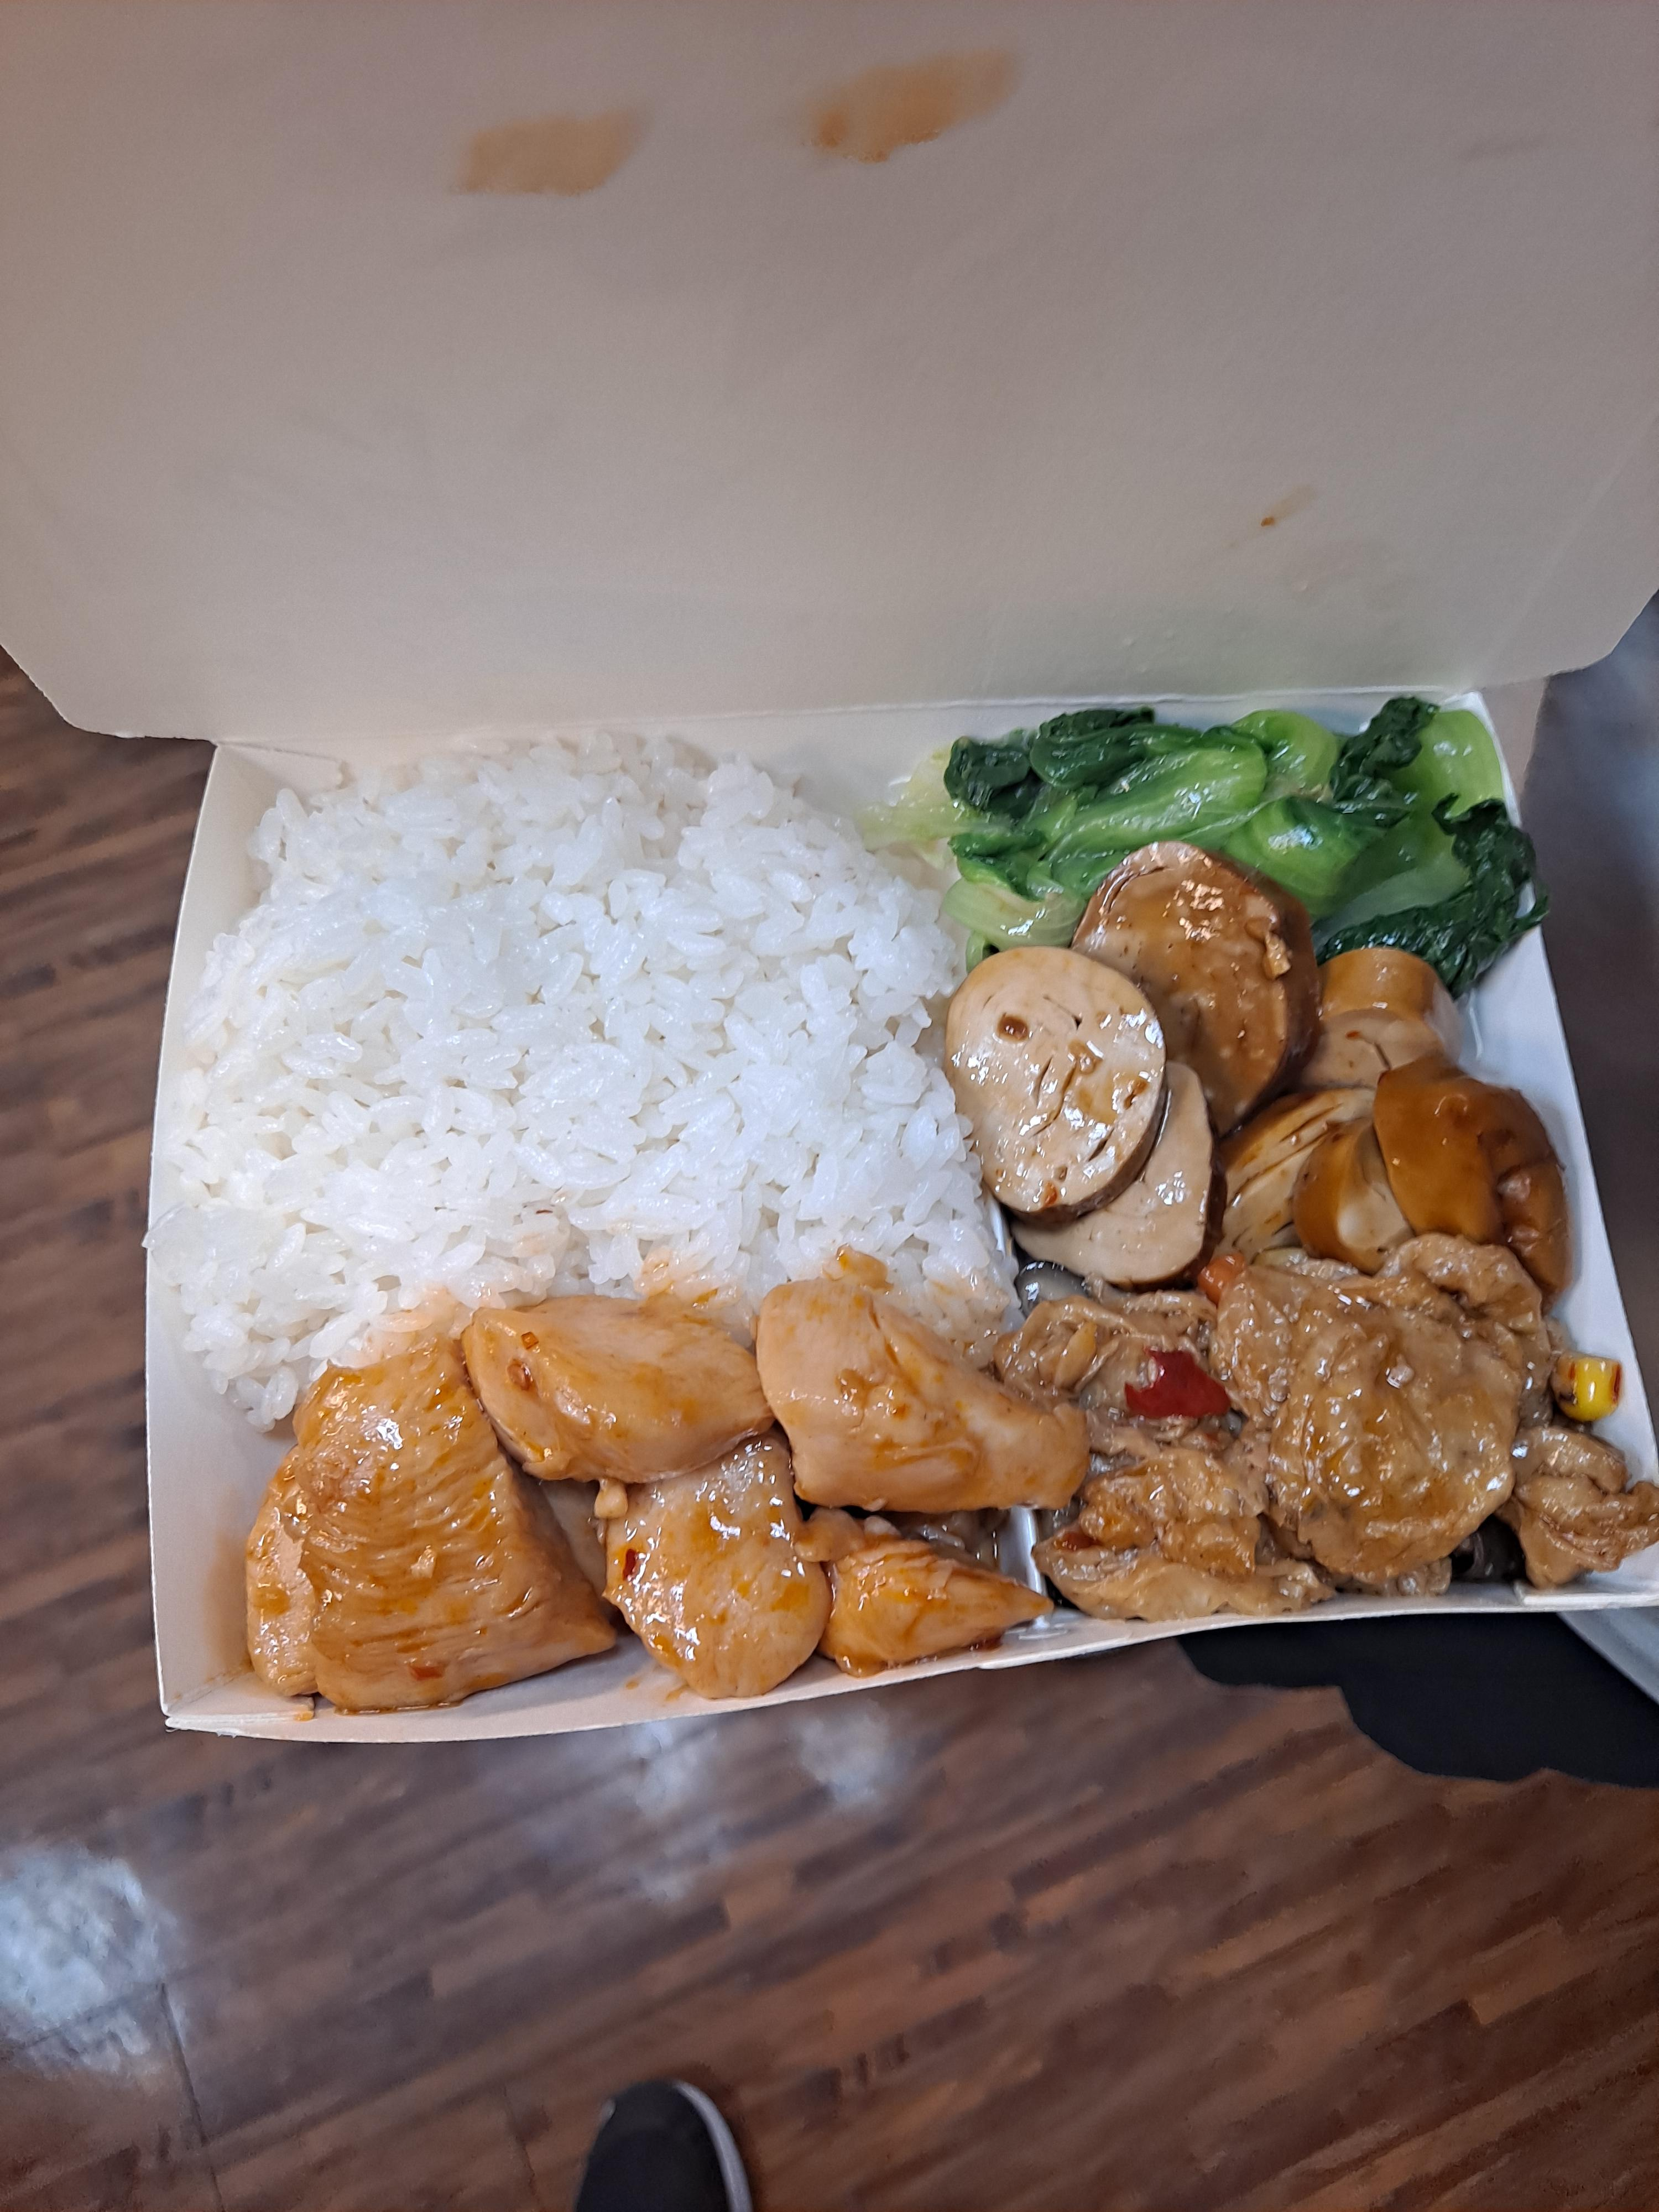big grilled chicken leg: (73, 916, 1244, 2212)
big herbal chicken leg: (150, 963, 730, 1802)
braised fish fillet: (778, 1662, 1220, 2166), (720, 1220, 1195, 1675), (741, 961, 1129, 1225)
braised pork: (184, 1708, 786, 2212)
